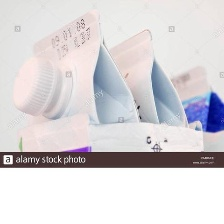carton: (8, 8, 141, 160), (107, 24, 191, 154), (162, 63, 224, 166)
